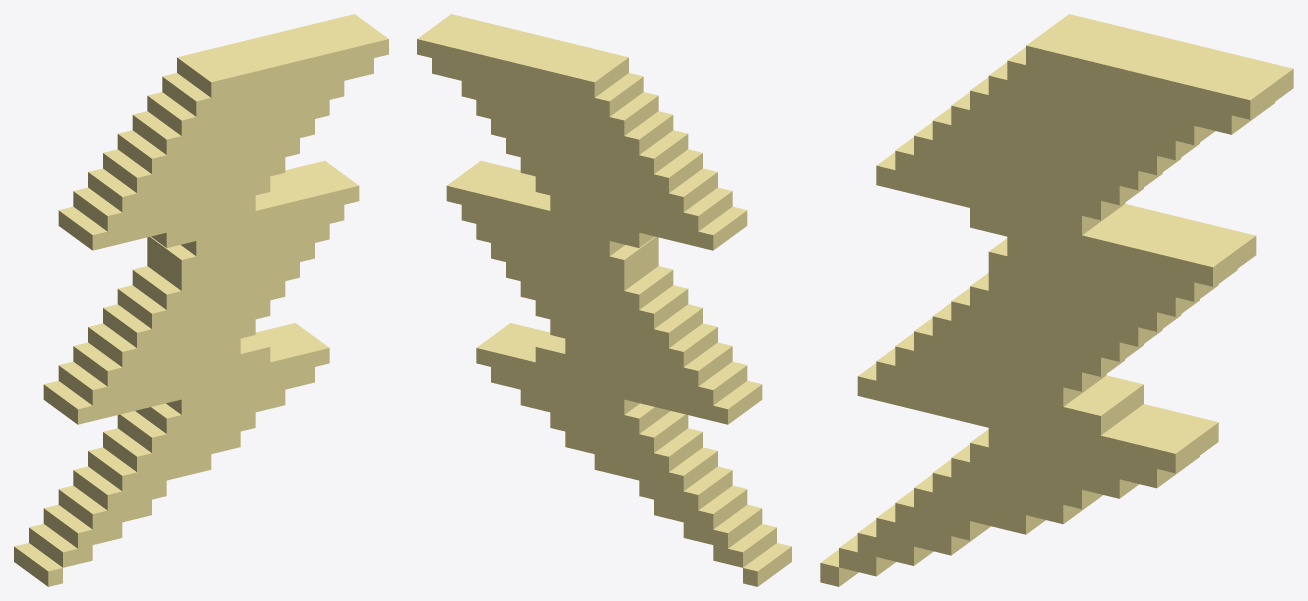
Rendered from Lightning.dae.
3 renders of one model, left to right at view 1: azimuth 30°, elevation 25°; view 2: azimuth 150°, elevation 25°; view 3: azimuth 330°, elevation 25°, orthographic. The views are drawn at different scales.
Parts seen in each view (by area): view 1: Lightning; view 2: Lightning; view 3: Lightning.
Part boxes in pixels (<box>): Lightning: <box>14,14,388,586</box>; Lightning: <box>417,14,791,586</box>; Lightning: <box>820,14,1293,586</box>.
Size of the model in its own units: 23 by 30 by 4.
Materials: 1 (1 with a texture image).
